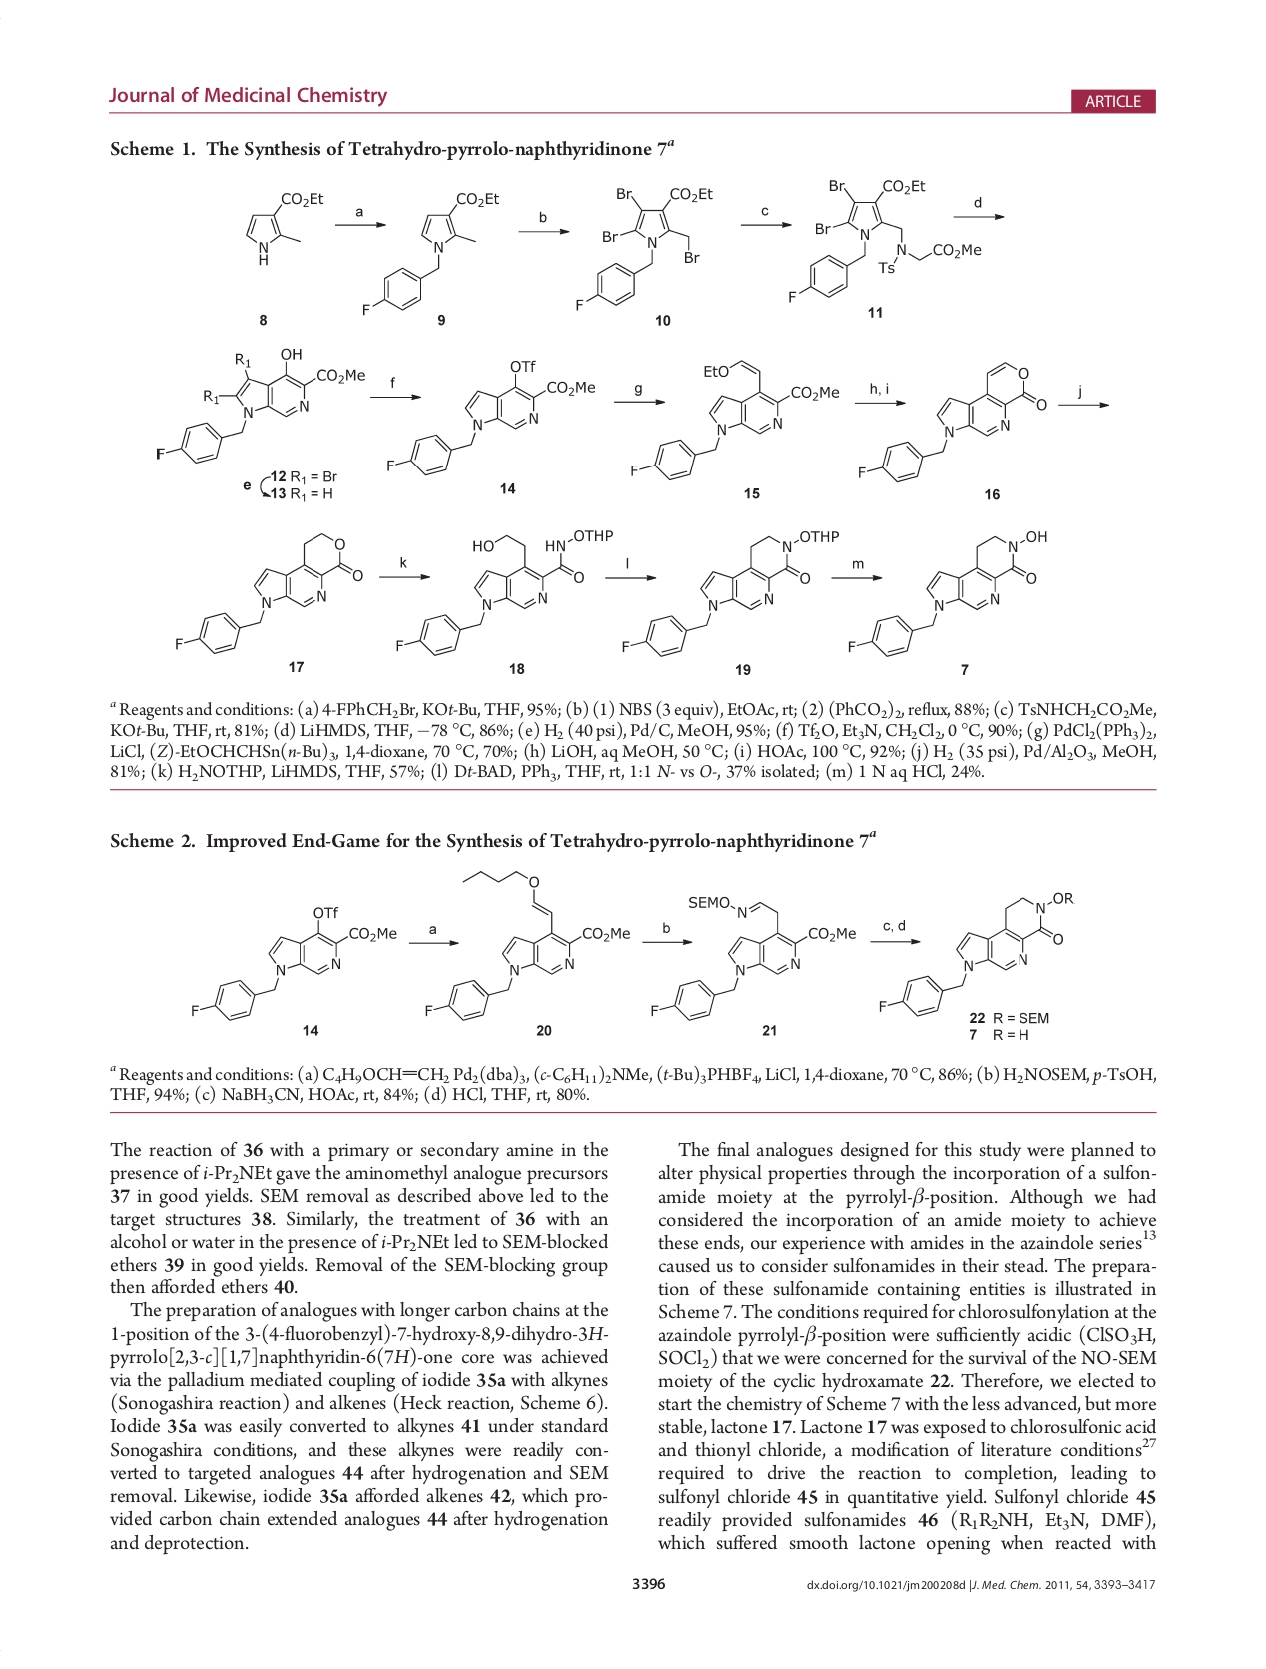exist_molecular: (422, 868, 630, 1021), (618, 524, 840, 661), (394, 527, 614, 657), (846, 528, 1051, 660), (628, 356, 842, 481), (648, 894, 856, 1021), (785, 176, 985, 305), (386, 356, 598, 477), (876, 890, 1077, 1017), (154, 344, 368, 464), (188, 906, 398, 1024), (855, 359, 1051, 485), (172, 531, 364, 656), (572, 181, 715, 315), (356, 188, 503, 317), (235, 186, 324, 267)
